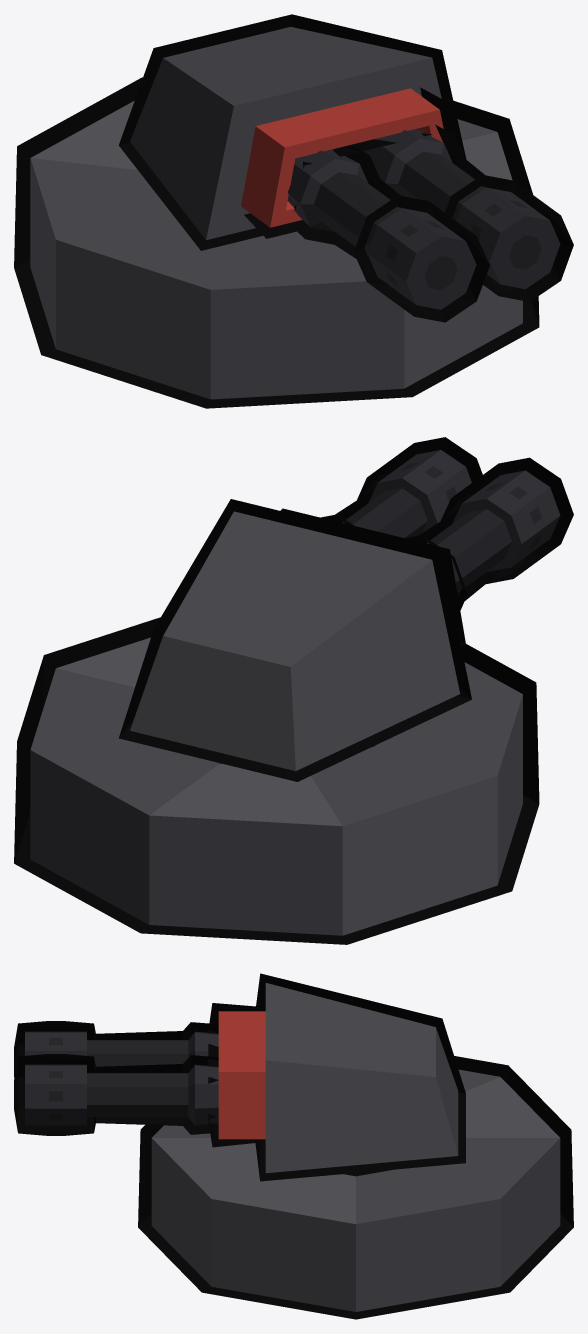
Rendered from TorretaVariante.fbx.
3 renders of one model, top to bottom at view 1: azimuth 30°, elevation 25°; view 2: azimuth 150°, elevation 25°; view 3: azimuth 270°, elevation 25°, orthographic. The views are drawn at different scales.
Parts seen in each view (by area): view 1: cabecaTorrVar, baseTorrVar; view 2: baseTorrVar, cabecaTorrVar; view 3: baseTorrVar, cabecaTorrVar.
Part boxes in pixels (<box>): cabecaTorrVar: <box>118,14,573,322</box>; baseTorrVar: <box>14,77,539,408</box>; baseTorrVar: <box>14,617,539,944</box>; cabecaTorrVar: <box>119,437,573,781</box>; baseTorrVar: <box>138,1056,573,1319</box>; cabecaTorrVar: <box>14,973,465,1181</box>.
Size of the model in its own units: 387 by 208 by 497.
